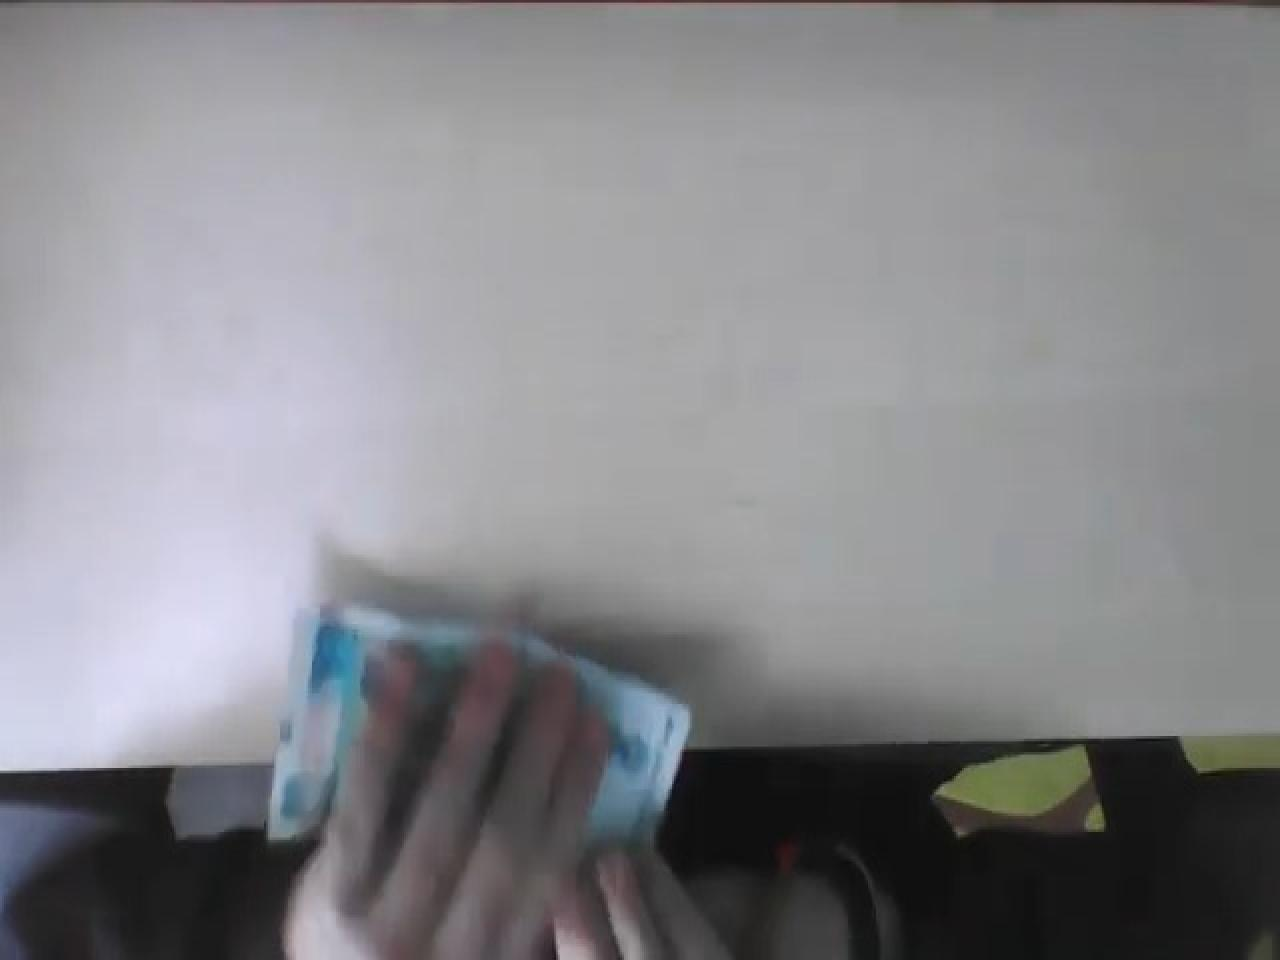100leva: (264, 600, 692, 869)
